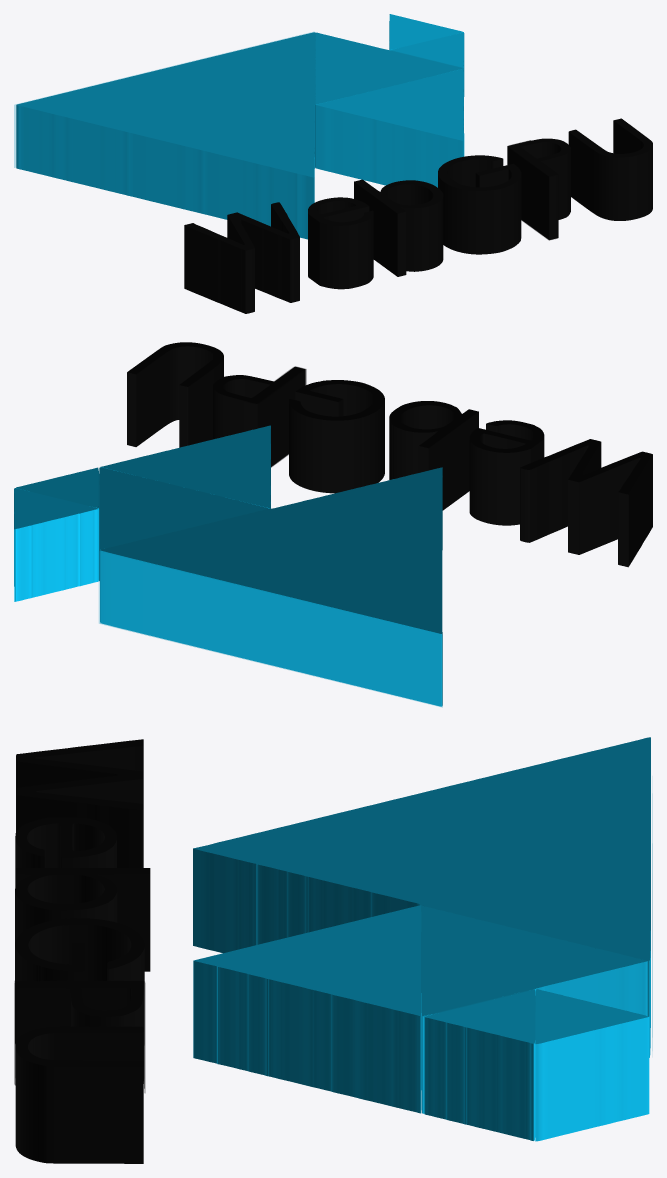
Rendered from webgpu.glb.
3 views of the same model, one above another, from view 1: azimuth 30°, elevation 25°; view 2: azimuth 150°, elevation 25°; view 3: azimuth 270°, elevation 25° (orthographic). The views are drawn at different scales.
Parts seen in each view (by area): view 1: Node1, Node2, Node6, Node9, Node10, Node5, Node8, Node4, Node7, Node14, Node13, Node11 (+1 smaller); view 2: Node1, Node15, Node6, Node9, Node11, Node10, Node4, Node2, Node5, Node8, Node7, Node13 (+2 smaller); view 3: Node1, Node2, Node10, Node4, Node11, Node12, Node6, Node5, Node9, Node8, Node7, Node14 (+1 smaller).
Boxes of the visible parts, x1,y1,x2,y2 form: Node1: (16,32,315,239); Node2: (315,68,464,187); Node6: (184,202,299,313); Node9: (438,155,521,254); Node10: (568,118,652,220); Node5: (354,179,443,276); Node8: (308,197,373,289); Node4: (315,32,463,104); Node7: (508,138,570,239); Node14: (507,140,558,239); Node13: (507,140,558,240); Node11: (389,14,463,50); Node1: (100,467,442,706); Node15: (99,551,442,707); Node6: (520,439,652,567); Node9: (289,380,384,493); Node11: (14,488,98,601); Node10: (127,342,223,447); Node4: (99,467,268,621); Node2: (101,425,270,508); Node5: (389,401,478,510); Node8: (469,420,544,525); Node7: (213,367,304,466); Node13: (229,366,306,467); Node1: (193,737,650,1057); Node2: (193,905,420,1113); Node10: (15,1026,143,1163); Node4: (421,905,647,1113); Node11: (535,989,649,1141); Node12: (424,989,535,1140); Node6: (16,739,143,867); Node5: (15,868,150,971); Node9: (15,918,144,1043); Node8: (15,817,116,886); Node7: (16,981,143,1080); Node14: (15,981,144,1092).
Size of the model in its own units: 3.64 by 0.5 by 2.98.
